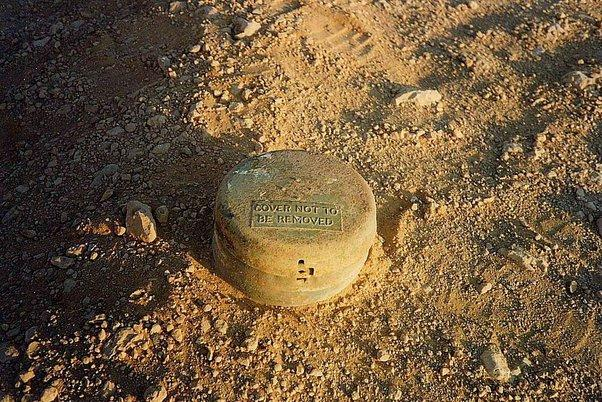pmn: (209, 145, 381, 312)
